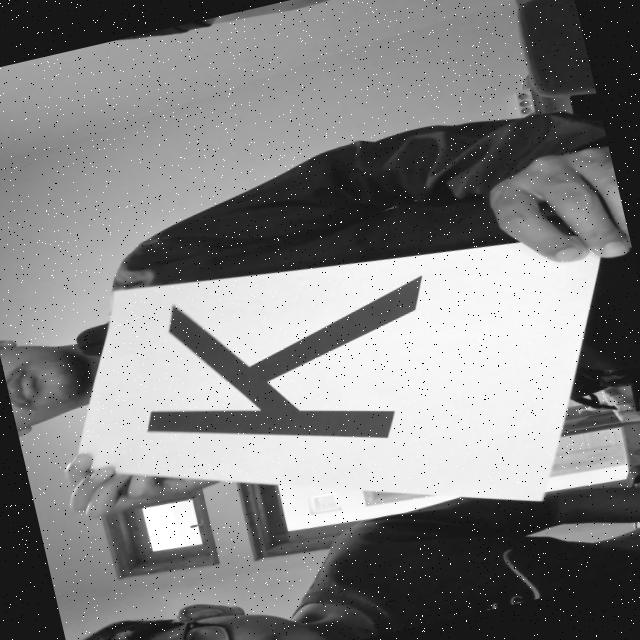k: (102, 238, 480, 502)
